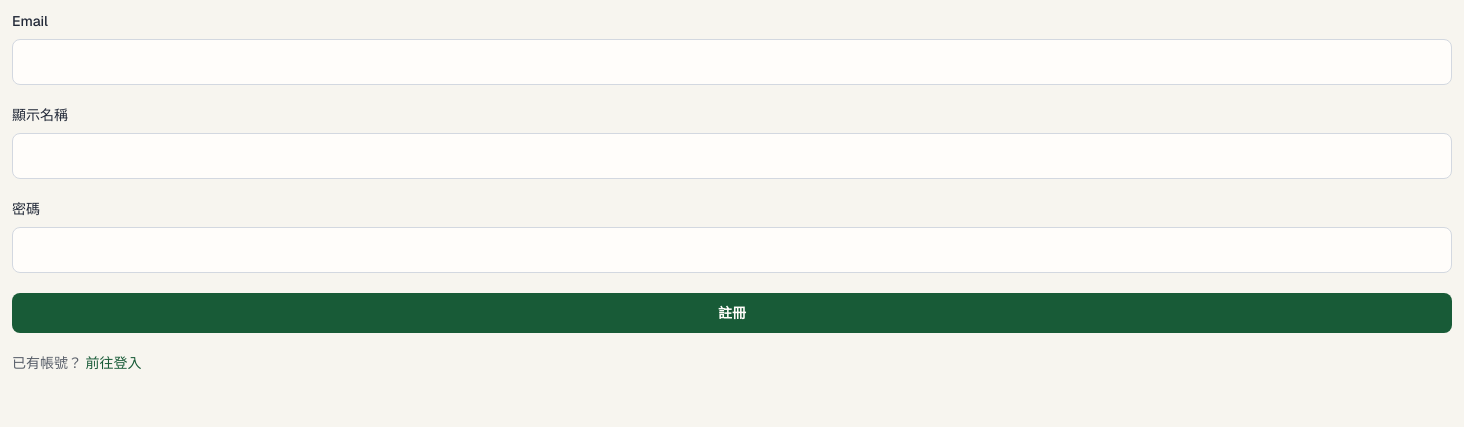
Test: RegisterForm › MSW 回 RATE_LIMITED 時顯示操作太頻繁
In the field labelled "Email": (732, 62) [12, 39, 1452, 85], type "user@example.com"
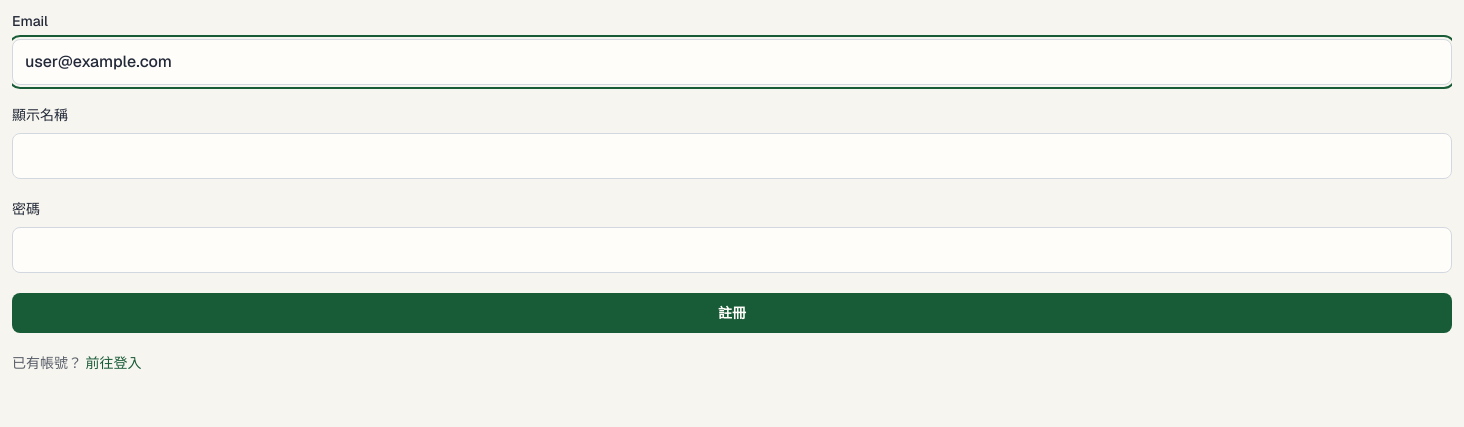
In the field labelled "顯示名稱": (732, 156) [12, 133, 1452, 179], type "測試使用者"
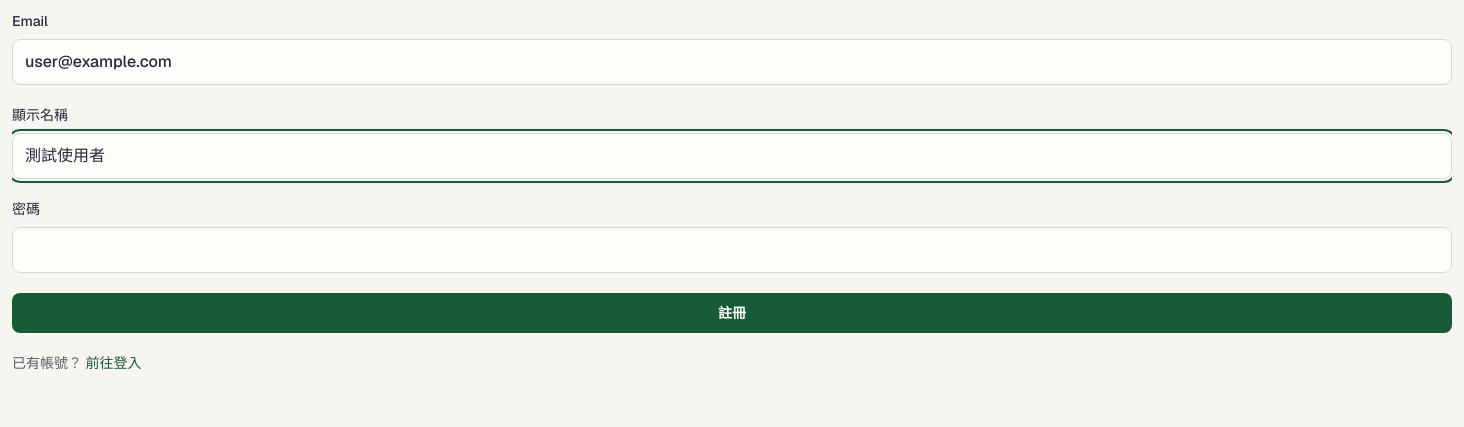
In the password field labelled "密碼": (732, 250) [12, 227, 1452, 273], type "password123"
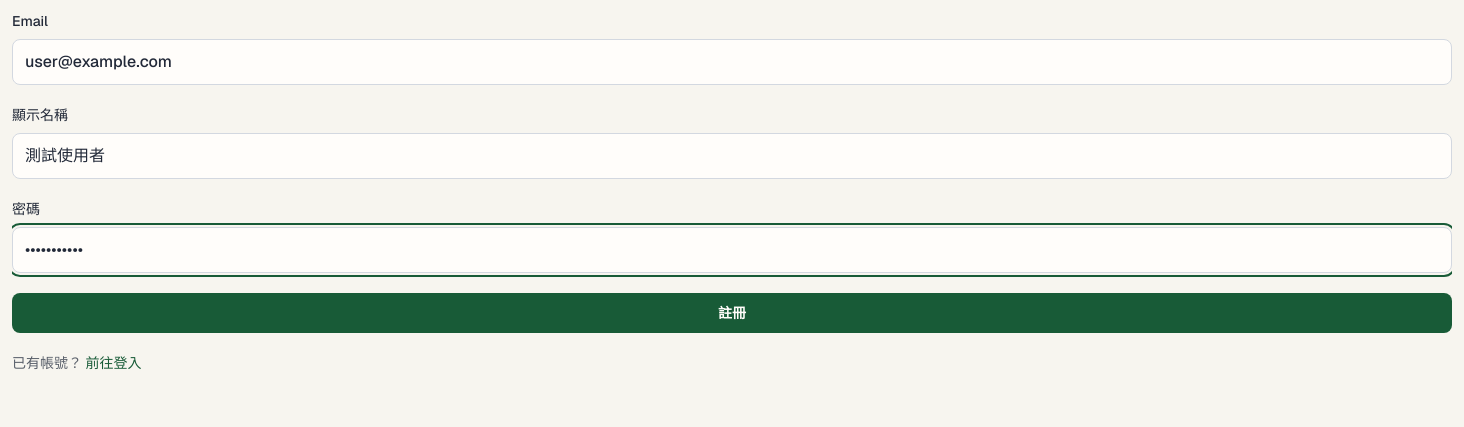
Click the button "註冊": (732, 313) [12, 293, 1452, 333]
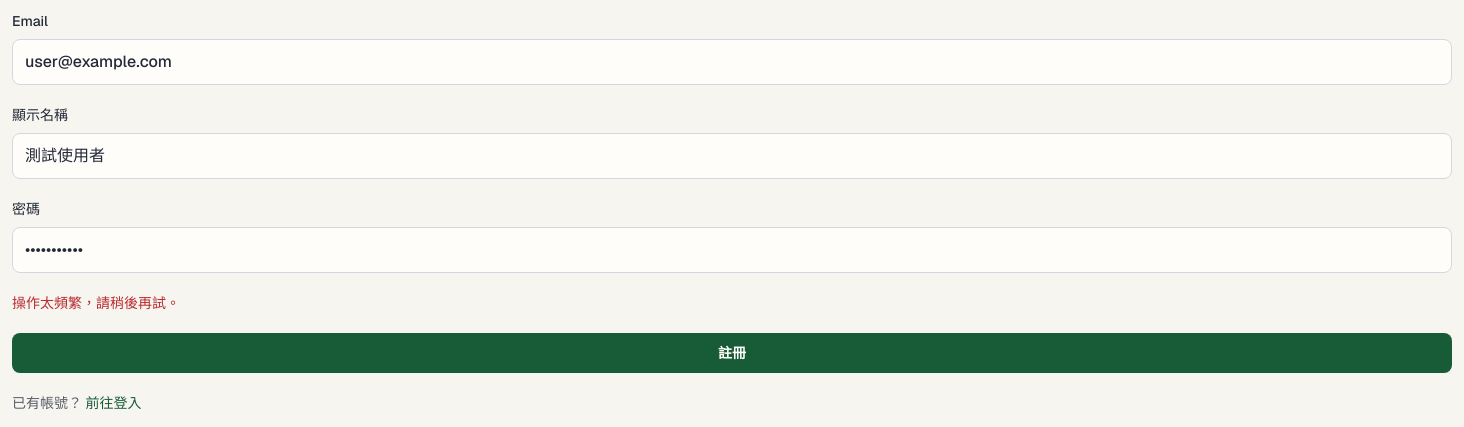
Expected: the text "操作太頻繁，請稍後再試。" is shown, [12, 294, 180, 312]
